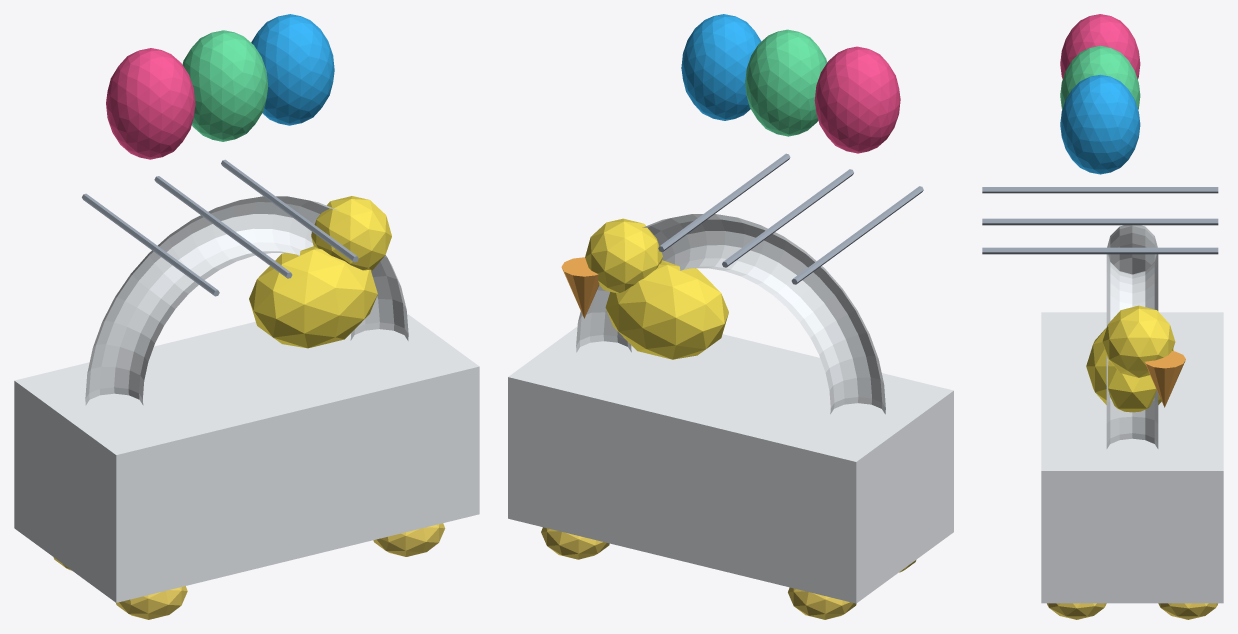
File: treasure_bath.glb
3 views of the same model, side by side, from view 1: azimuth 30°, elevation 25°; view 2: azimuth 150°, elevation 25°; view 3: azimuth 270°, elevation 25° (orthographic). The views are drawn at different scales.
Visible parts, largest first — view 1: Tub, Rim, DuckBody, Balloon0, Balloon1, Balloon2, DuckHead, Foot0.620.26, Foot-0.620.26, String1, String0, String2; view 2: Tub, Rim, DuckBody, Balloon0, Balloon1, Balloon2, DuckHead, DuckBeak, Foot0.62-0.26, Foot-0.62-0.26, String0, String1 (+1 smaller); view 3: Tub, Balloon2, Rim, DuckHead, DuckBody, Balloon0, Balloon1, String1, String2, String0, DuckBeak, Foot0.62-0.26 (+1 smaller).
Part boxes in pixels (x1=…): Tub: x1=14, y1=313, x2=479, y2=602; Rim: x1=85, y1=196, x2=408, y2=405; DuckBody: x1=249, y1=246, x2=377, y2=348; Balloon0: x1=106, y1=48, x2=195, y2=159; Balloon1: x1=182, y1=30, x2=268, y2=141; Balloon2: x1=251, y1=14, x2=334, y2=125; DuckHead: x1=311, y1=196, x2=391, y2=270; Foot0.620.26: x1=373, y1=523, x2=445, y2=556; Foot-0.620.26: x1=116, y1=586, x2=187, y2=619; String1: x1=154, y1=176, x2=292, y2=278; String0: x1=82, y1=193, x2=219, y2=296; String2: x1=221, y1=159, x2=358, y2=262; Tub: x1=508, y1=326, x2=953, y2=603; Rim: x1=576, y1=214, x2=885, y2=414; DuckBody: x1=605, y1=260, x2=728, y2=359; Balloon0: x1=814, y1=46, x2=900, y2=153; Balloon1: x1=745, y1=29, x2=827, y2=136; Balloon2: x1=681, y1=14, x2=761, y2=120; DuckHead: x1=585, y1=218, x2=662, y2=292; DuckBeak: x1=561, y1=257, x2=599, y2=318; Foot0.62-0.26: x1=541, y1=527, x2=609, y2=559; Foot-0.62-0.26: x1=788, y1=587, x2=856, y2=619; String0: x1=791, y1=186, x2=923, y2=284; String1: x1=722, y1=169, x2=853, y2=267; Tub: x1=1041, y1=312, x2=1223, y2=603; Balloon2: x1=1060, y1=74, x2=1140, y2=174; Rim: x1=1106, y1=225, x2=1158, y2=448; DuckHead: x1=1102, y1=305, x2=1175, y2=377; DuckBody: x1=1086, y1=327, x2=1173, y2=412; Balloon0: x1=1060, y1=14, x2=1140, y2=79; Balloon1: x1=1060, y1=45, x2=1140, y2=109; String1: x1=982, y1=218, x2=1218, y2=225; String2: x1=982, y1=247, x2=1218, y2=254; String0: x1=982, y1=187, x2=1218, y2=193; DuckBeak: x1=1145, y1=351, x2=1185, y2=407; Foot0.62-0.26: x1=1158, y1=603, x2=1217, y2=619.
Bounding box in the file's own units: 1.75 × 2.53 × 1.12.
